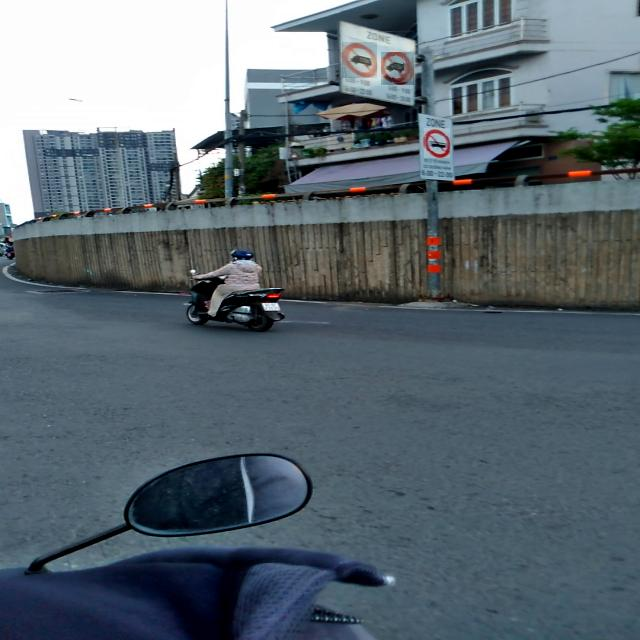Cấm xe tải: (342, 42, 377, 78), (381, 52, 414, 85)
Cấm xe xe khách: (424, 128, 450, 158)
